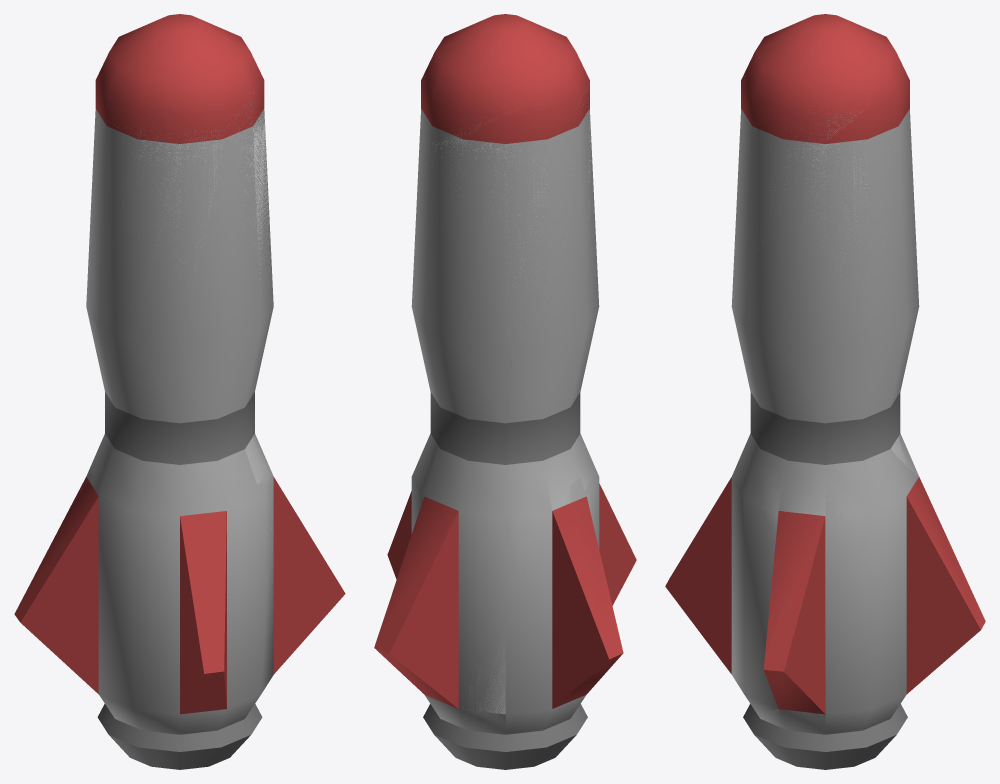
The model's file is Micro-Concussive-Missile-v01.glb.
The picture shows the model from 3 angles, left to right: view 1: azimuth 30°, elevation 25°; view 2: azimuth 150°, elevation 25°; view 3: azimuth 270°, elevation 25°; orthographic projection.
Parts seen in each view (by area): view 1: Missile; view 2: Missile; view 3: Missile.
Part boxes in pixels (x1,y1,x2,y2): Missile: (14, 14, 345, 769); Missile: (374, 14, 636, 769); Missile: (665, 14, 985, 769).
Bounding box in the file's own units: 0.2053 × 0.51 × 0.2053.
